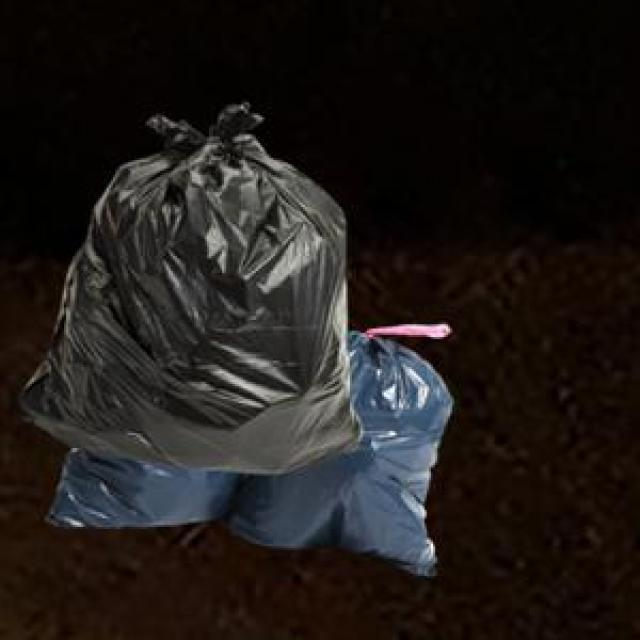Vinyl: (21, 104, 451, 576)
